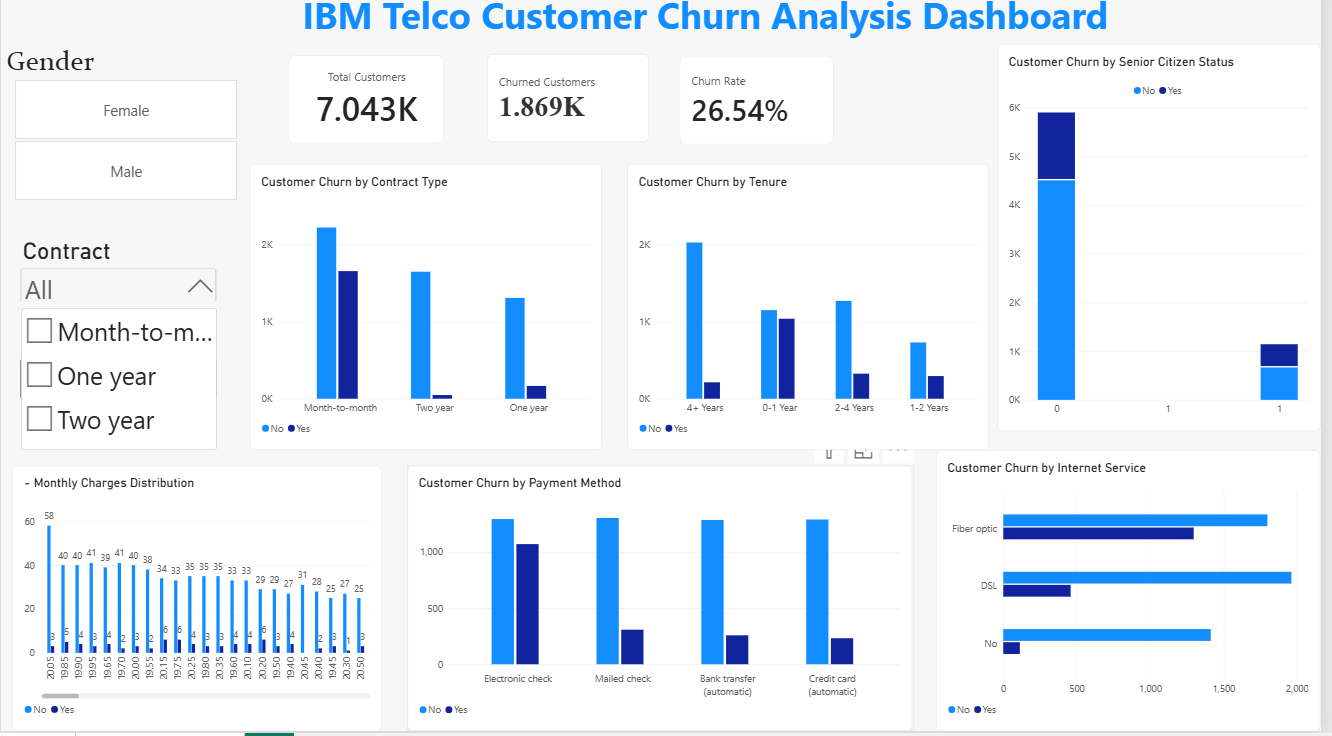

The page's visual inventory and layout, read from the dashboard file:
{"tool":"powerbi","page":{"name":"Dashboard","canvas":[1920,1080],"ordinal":0},"visuals":[{"type":"cardVisual","fields":{"Data":["Tabla1.Churned Customers"]},"box":[707.6,94.1,235.3,128.5],"z":0},{"type":"cardVisual","fields":{"Data":["Tabla1.Churn Rate"]},"box":[988.1,97.7,224.4,128.5],"z":1},{"type":"cardVisual","fields":{"Data":["Tabla1.Total Customers"]},"box":[418,95.9,226.2,128.5],"z":2},{"type":"clusteredColumnChart","title":"Customer Churn by Contract Type","fields":{"Category":["Tabla1.Contract"],"Series":["Tabla1.Churn_data"],"Y":["CountNonNull(Tabla1.customerID)"]},"box":[361.9,255.2,512.1,416.2],"z":3},{"type":"clusteredBarChart","title":"Customer Churn by Internet Service","fields":{"Category":["Tabla1.InternetService"],"Series":["Tabla1.Churn_data"],"Y":["CountNonNull(Tabla1.customerID)"]},"box":[1360.9,671.4,559.2,409],"z":4},{"type":"clusteredColumnChart","title":"Customer Churn by Payment Method","fields":{"Category":["Tabla1.PaymentMethod"],"Series":["Tabla1.Churn_data"],"Y":["CountNonNull(Tabla1.customerID)"]},"box":[591.8,693.1,734.7,387.3],"z":5},{"type":"clusteredColumnChart","title":"Customer Churn by Tenure","fields":{"Category":["Tabla1.Tenure Group"],"Series":["Tabla1.Churn_data"],"Y":["CountNonNull(Tabla1.customerID)"]},"box":[910.3,255.2,526.6,416.2],"z":6},{"type":"clusteredColumnChart","title":"- Monthly Charges Distribution","fields":{"Category":["Tabla1.MonthlyCharges"],"Series":["Tabla1.Churn_data"],"Y":["CountNonNull(Tabla1.customerID)"]},"box":[16.3,693.1,537.5,387.3],"z":7},{"type":"columnChart","title":"Customer Churn by Senior Citizen Status","fields":{"Category":["Tabla1.SeniorCitizen"],"Series":["Tabla1.Churn_data"],"Y":["CountNonNull(Tabla1.customerID)"]},"box":[1449.5,79.6,470.5,562.8],"z":8},{"type":"slicer","fields":{"Values":["Tabla1.gender"]},"box":[0,79.6,362.3,228.5],"z":9},{"type":"slicer","fields":{"Values":["Tabla1.Contract"]},"box":[23.5,361.9,295,92.3],"z":10},{"type":"slicer","fields":{"Values":["Tabla1.InternetService"]},"box":[23.5,492.2,294.3,150.3],"z":11},{"type":"textbox","box":[437.9,0,1228.8,157.4],"z":12}]}

Visuals, with their boxes in screenshot pixels (x1, y1, x2, y2), scaled from the page's 1920x1080 canvas onto the 1332x736 screenshot:
cardVisual - Tabla1.Churned Customers: (x1=491, y1=64, x2=654, y2=152)
cardVisual - Tabla1.Churn Rate: (x1=685, y1=67, x2=841, y2=154)
cardVisual - Tabla1.Total Customers: (x1=290, y1=65, x2=447, y2=153)
"Customer Churn by Contract Type" clusteredColumnChart: (x1=251, y1=174, x2=606, y2=458)
"Customer Churn by Internet Service" clusteredBarChart: (x1=944, y1=458, x2=1331, y2=735)
"Customer Churn by Payment Method" clusteredColumnChart: (x1=411, y1=472, x2=920, y2=735)
"Customer Churn by Tenure" clusteredColumnChart: (x1=632, y1=174, x2=997, y2=458)
"- Monthly Charges Distribution" clusteredColumnChart: (x1=11, y1=472, x2=384, y2=735)
"Customer Churn by Senior Citizen Status" columnChart: (x1=1006, y1=54, x2=1331, y2=438)
slicer - Tabla1.gender: (x1=0, y1=54, x2=251, y2=210)
slicer - Tabla1.Contract: (x1=16, y1=247, x2=221, y2=310)
slicer - Tabla1.InternetService: (x1=16, y1=335, x2=220, y2=438)
textbox: (x1=304, y1=0, x2=1156, y2=107)
